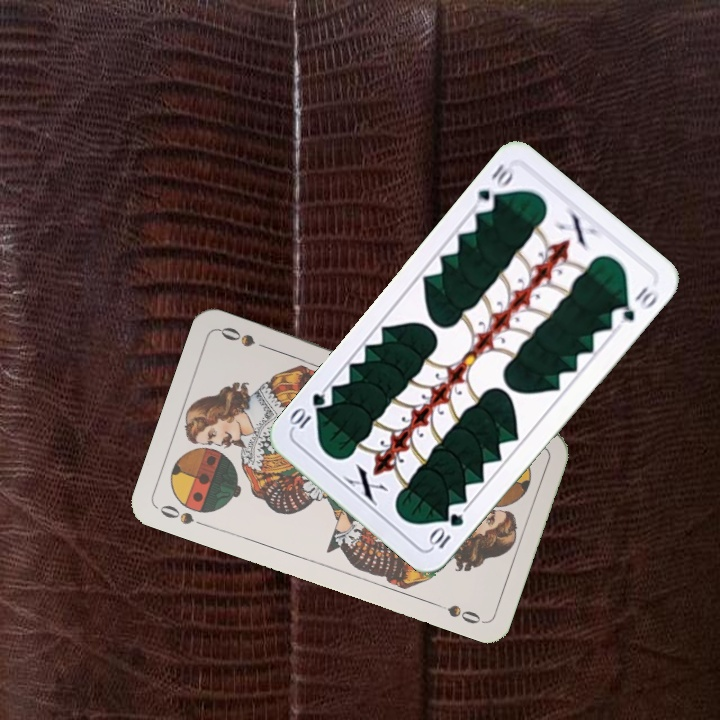G10: (473, 159, 518, 216), (425, 509, 467, 552)
SO: (155, 500, 211, 530)
